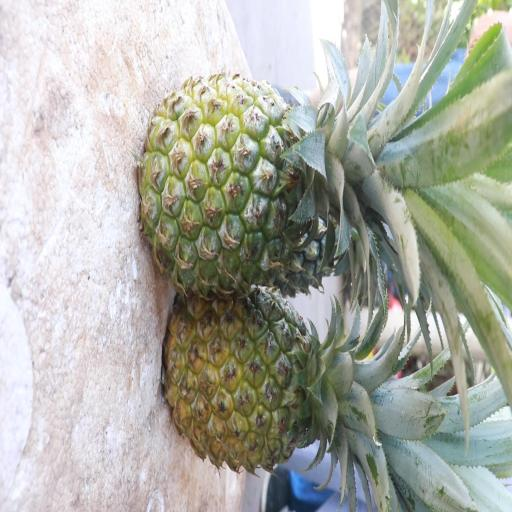------------------------------: (139, 63, 380, 291)
Pineapple - v8 v1: (166, 296, 371, 478)
